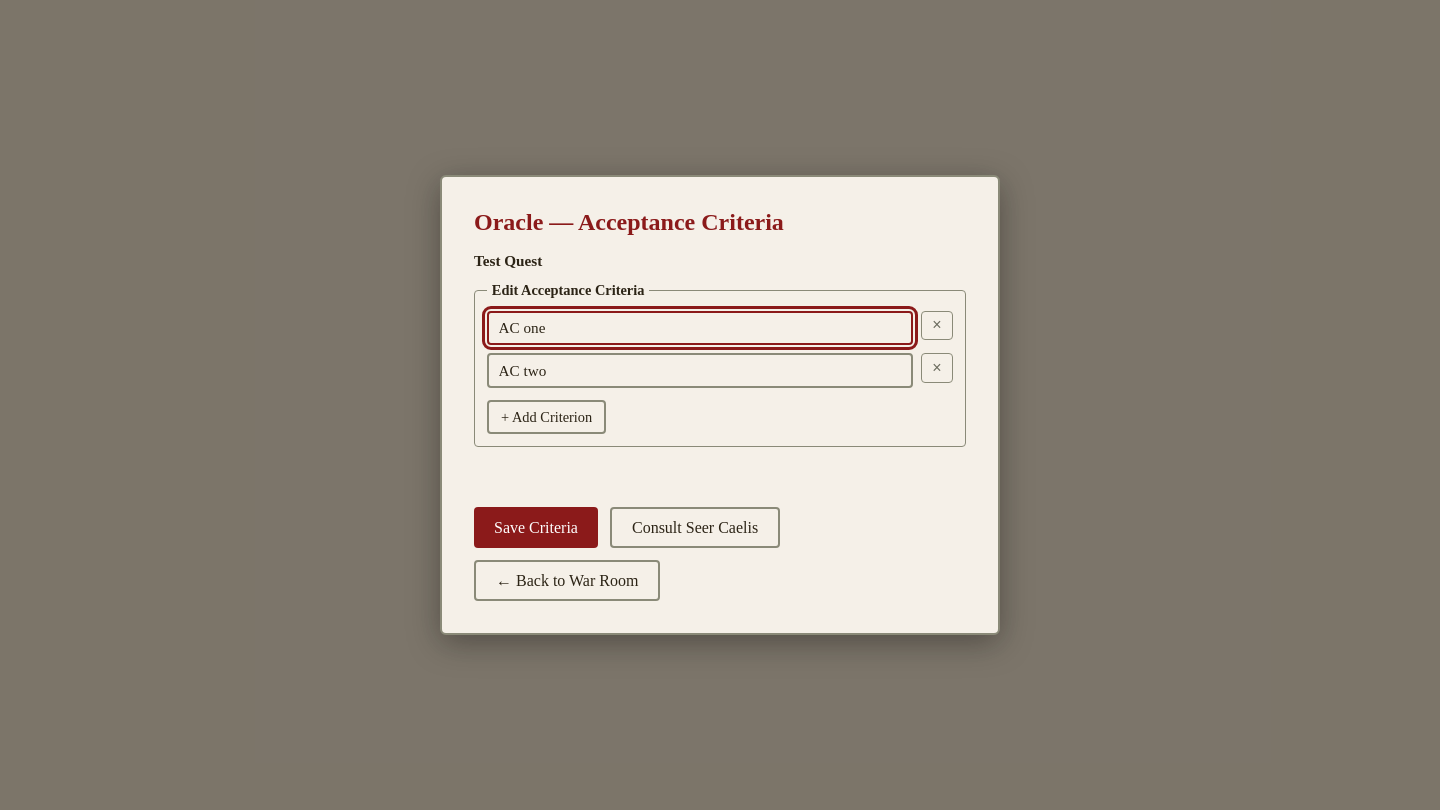
Test case: Oracle › shows persistent error on save failure
This screenshot has width=1440, height=810.
Expected: the field named "criterion 1" is shown, [487,311,913,345]
Click the button "Save Criteria" at (536, 528), box [474,507,598,548]
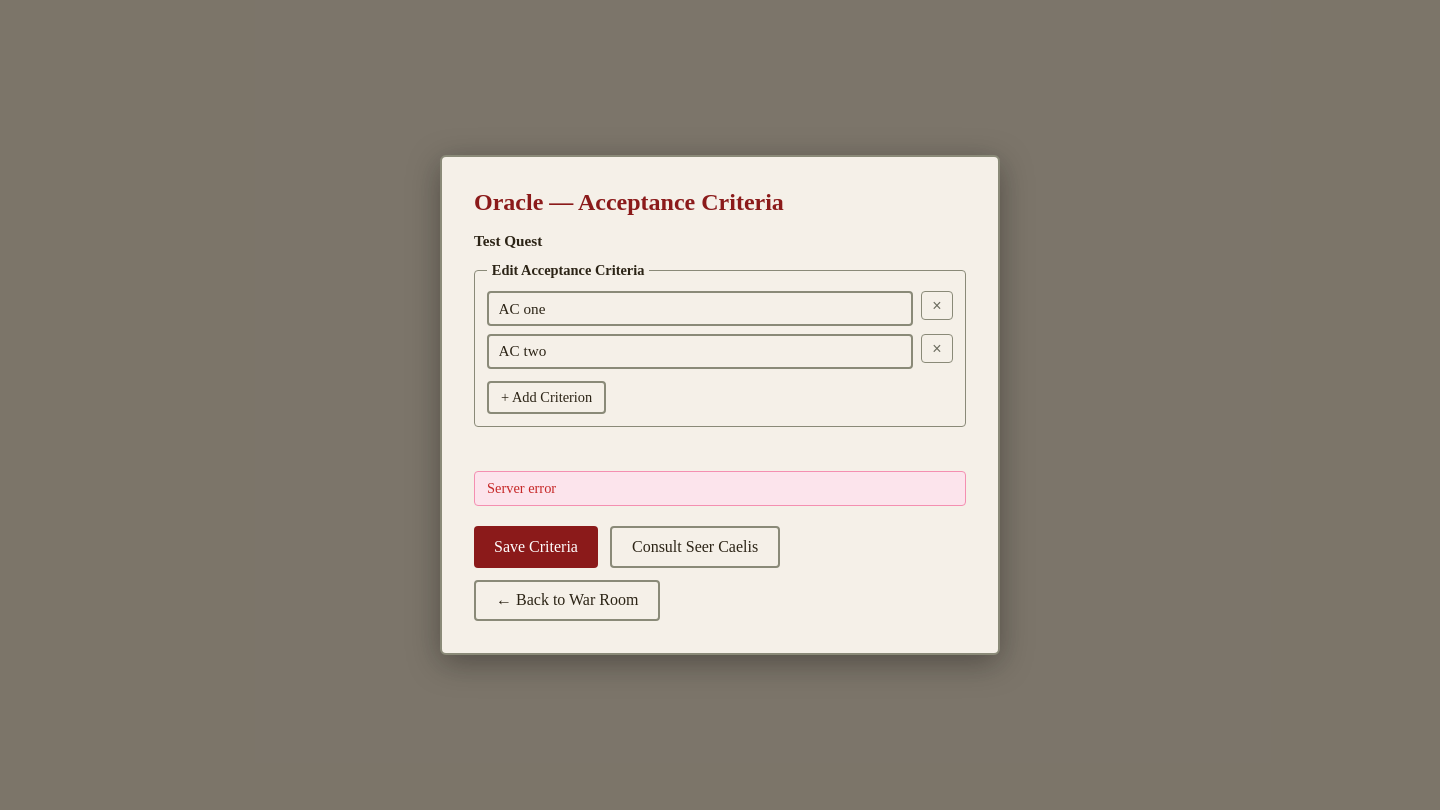
Expected: the message "Server error" is shown, [474,472,966,506]
